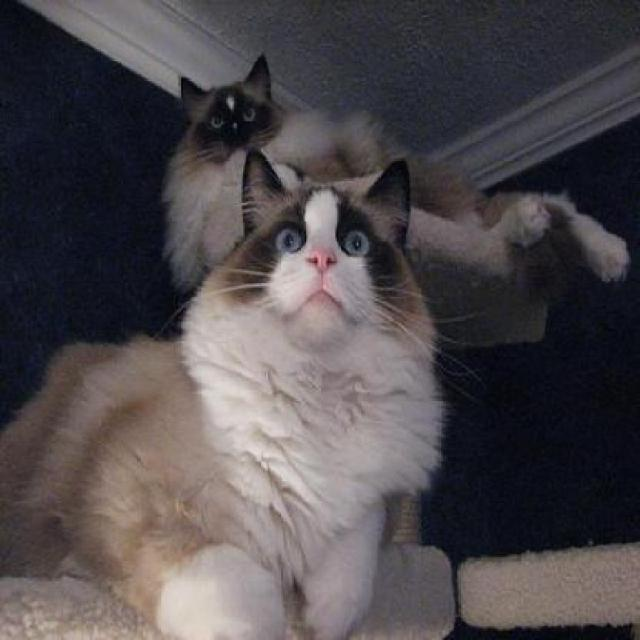cat: (0, 160, 446, 638), (166, 57, 628, 286)
